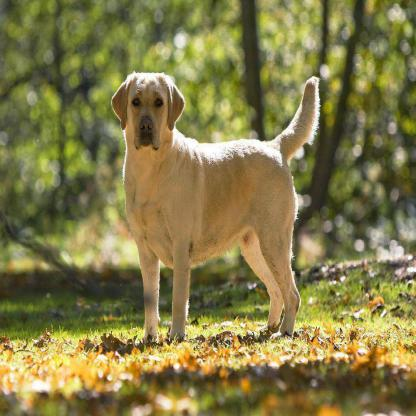Rotveler: (109, 72, 322, 343)
